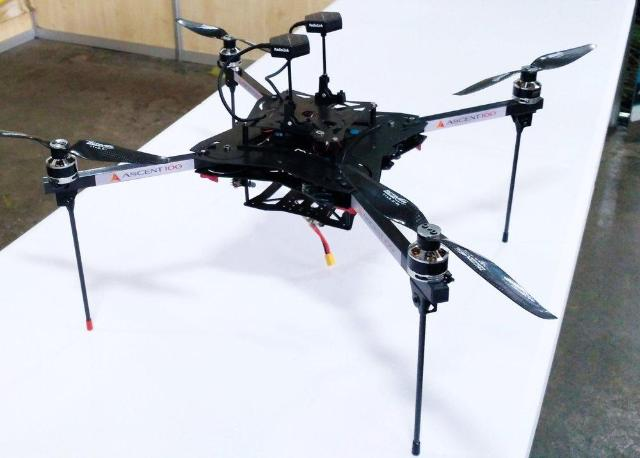drone: (0, 1, 640, 458)
